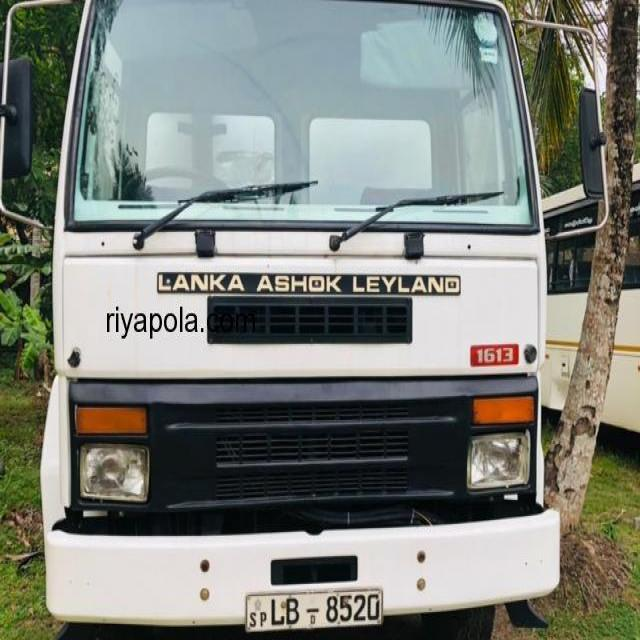license-plate: (245, 592, 382, 625)
